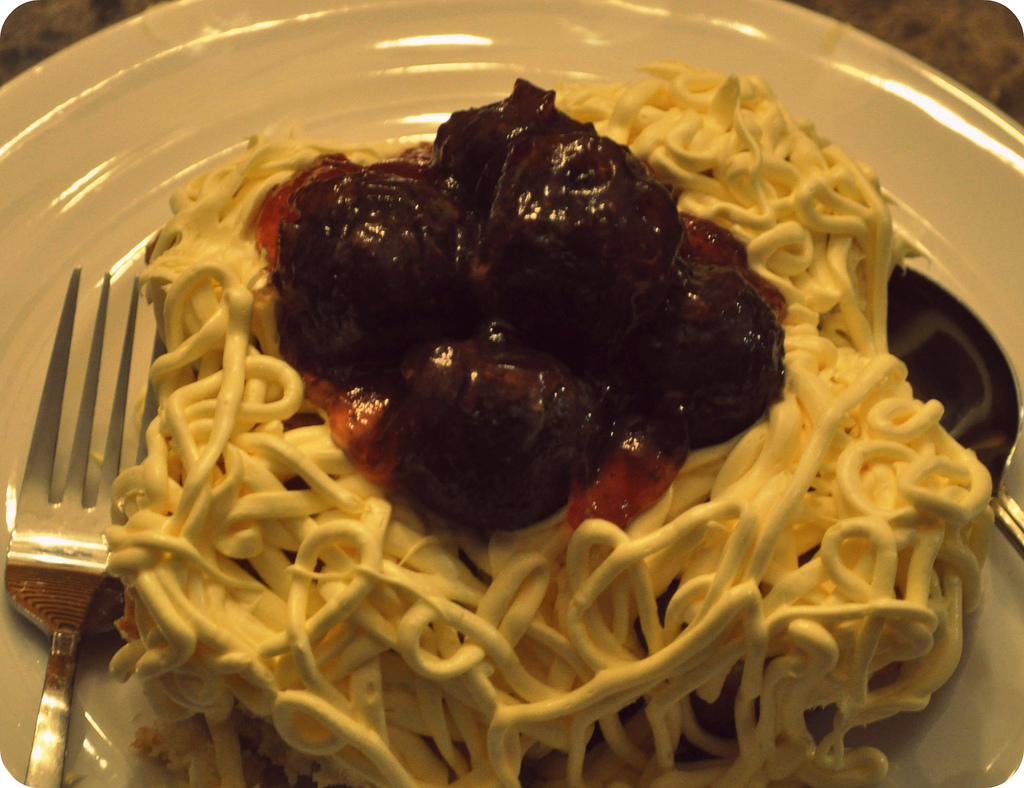meatballs: (465, 96, 680, 328), (374, 342, 626, 516), (269, 155, 471, 369), (597, 266, 790, 425)
plain spaghetti: (123, 511, 1009, 782)
